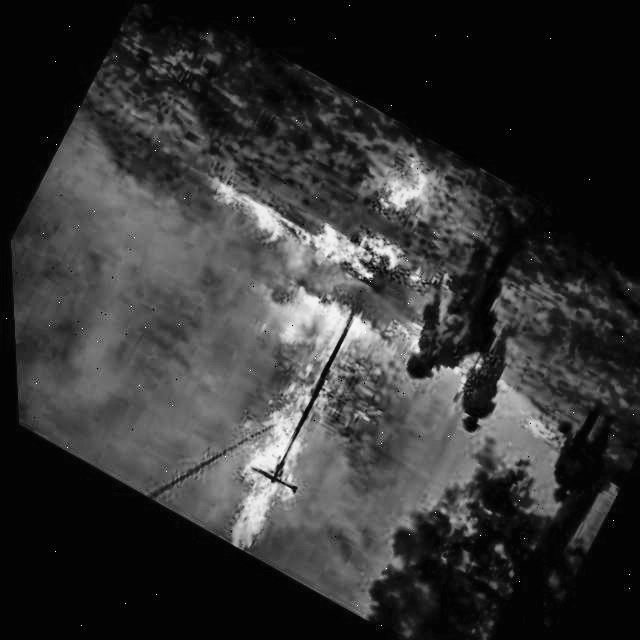Fire: (63, 154, 446, 570), (367, 147, 448, 230)
